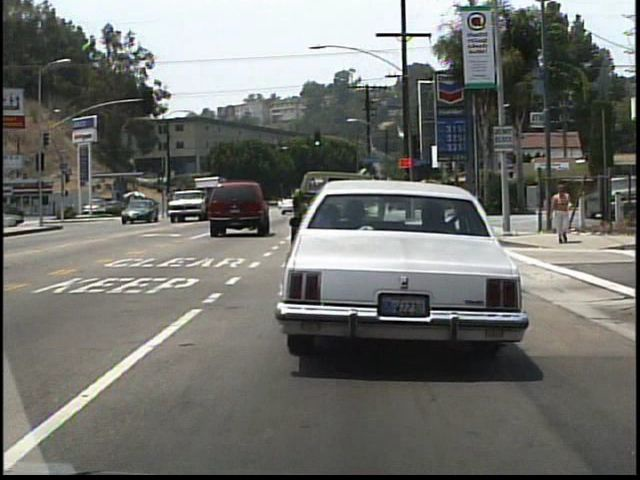person: (551, 180, 572, 244)
